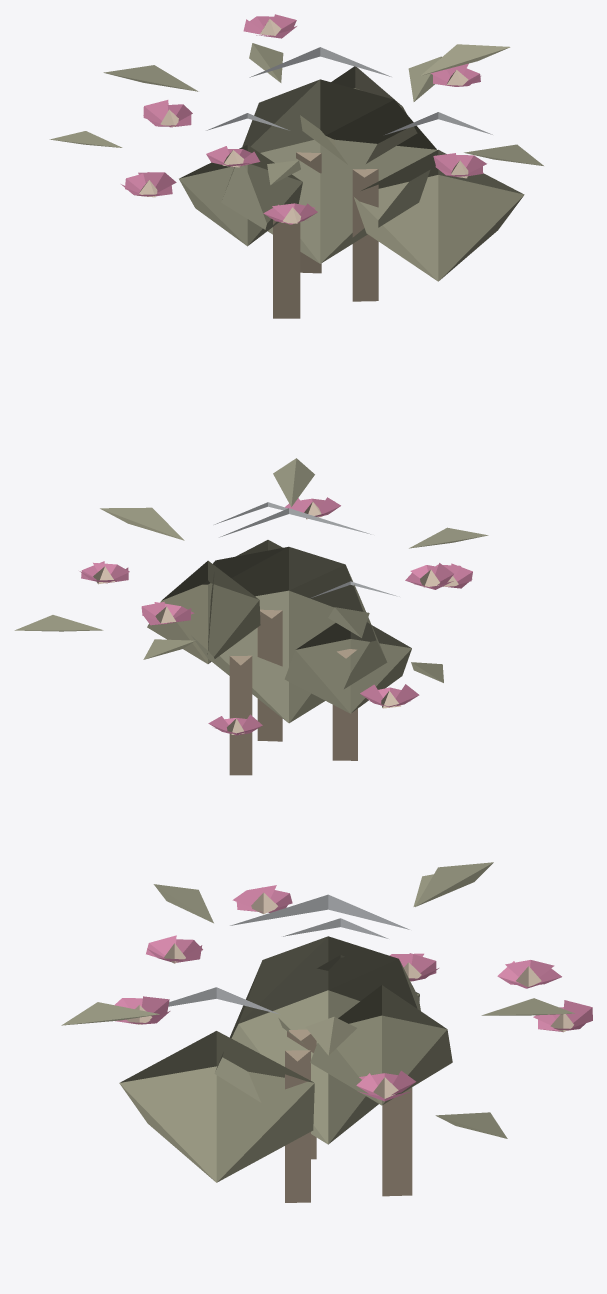
File: guan.yueju@flowering__winter.glb
3 views of the same model, one above another, from view 1: azimuth 30°, elevation 25°; view 2: azimuth 150°, elevation 25°; view 3: azimuth 270°, elevation 25° (orthographic). The views are drawn at different scales.
Parts seen in each view (by area): view 1: guan.yueju@flowering__winter; view 2: guan.yueju@flowering__winter; view 3: guan.yueju@flowering__winter.
Boxes of the visible parts, x1,y1,x2,y2 form: guan.yueju@flowering__winter: (49,14,543,318); guan.yueju@flowering__winter: (14,458,488,775); guan.yueju@flowering__winter: (61,862,592,1202).
Size of the model in its own units: 2.25 by 1.09 by 1.94.
